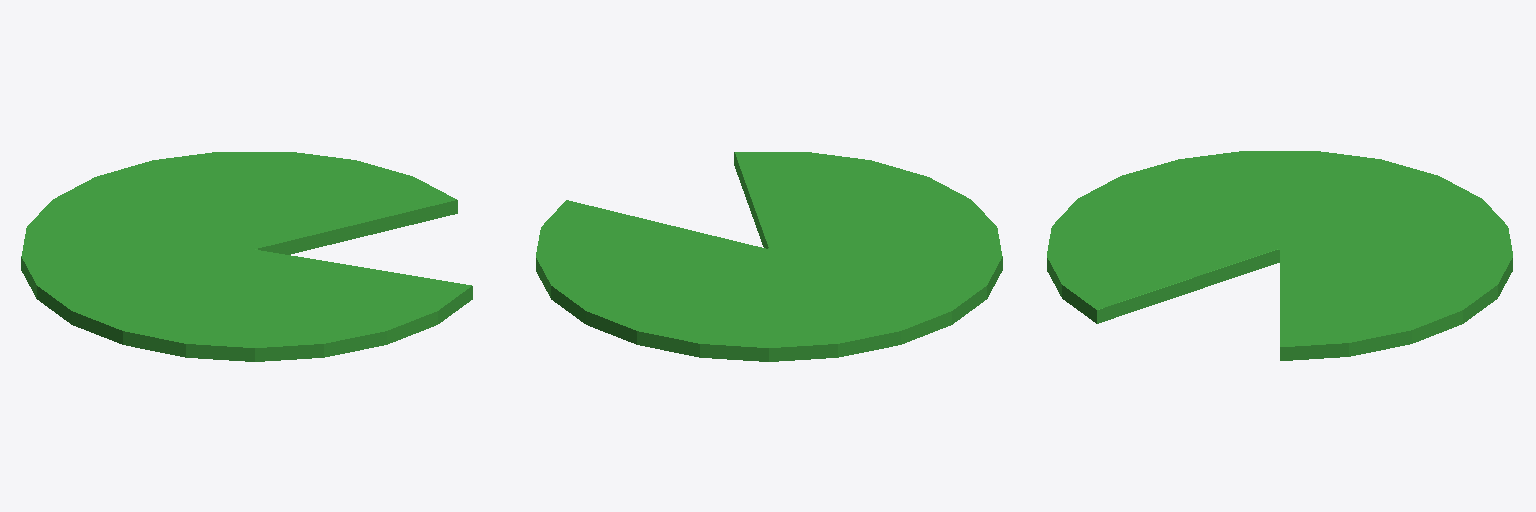
Rendered from Seerosenblatt.obj.
3 renders of one model, left to right at view 1: azimuth 30°, elevation 25°; view 2: azimuth 150°, elevation 25°; view 3: azimuth 270°, elevation 25°, orthographic.
Visible parts, largest first — view 1: Zylinder; view 2: Zylinder; view 3: Zylinder.
Boxes of the visible parts, box(x1,y1,x2,y2) form: Zylinder: box(21, 152, 472, 361); Zylinder: box(536, 152, 1002, 361); Zylinder: box(1047, 151, 1512, 360).
Bounding box in the file's own units: 136 × 4.48 × 137.